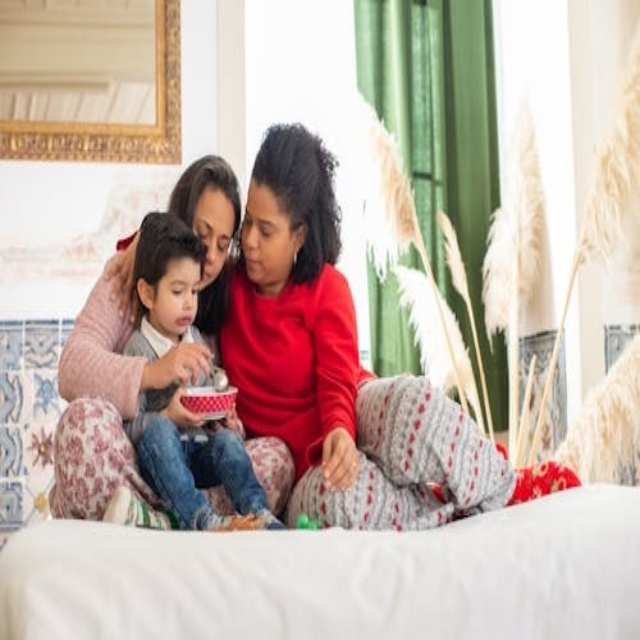Sin_gafas: (193, 217, 232, 257), (243, 203, 284, 238), (161, 282, 197, 303)
Sin_guantes: (148, 343, 212, 389), (317, 425, 359, 489), (164, 381, 212, 429)
Sin_mascara: (243, 249, 265, 276), (168, 309, 196, 330), (198, 263, 215, 286)
